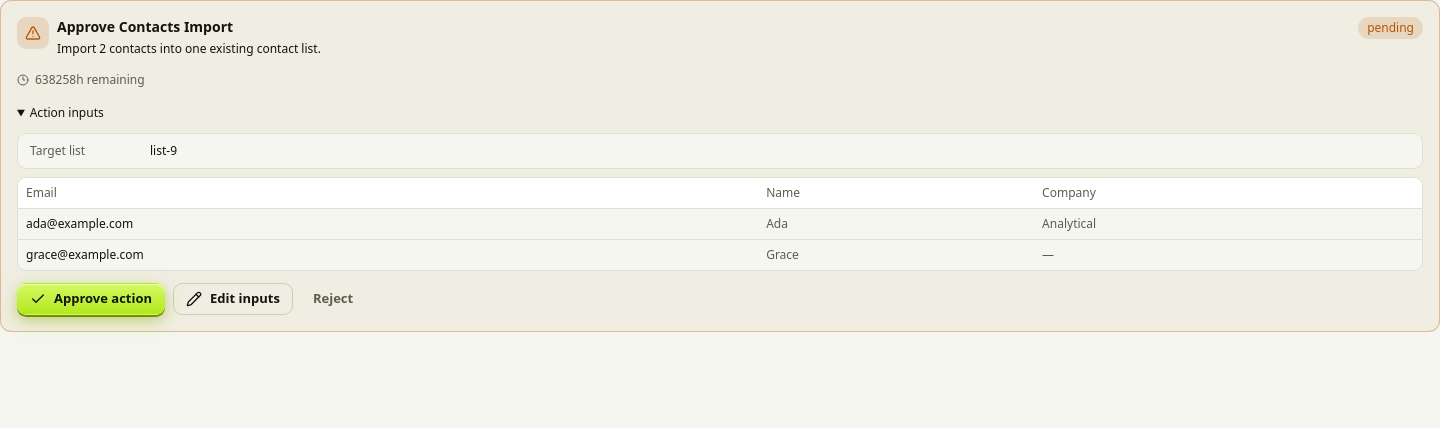
Scenario: ApprovalCard › renders a bulk import as rows and diffs a removed row
Expected: the text "Import 2 contacts into one existing contact list." is shown, x1=57 y1=40 x2=321 y2=57
Expected: the text "ada@example.com" is shown, x1=18 y1=208 x2=758 y2=240
Click the button "Edit inputs" at (233, 299), box x1=173 y1=283 x2=293 y2=315
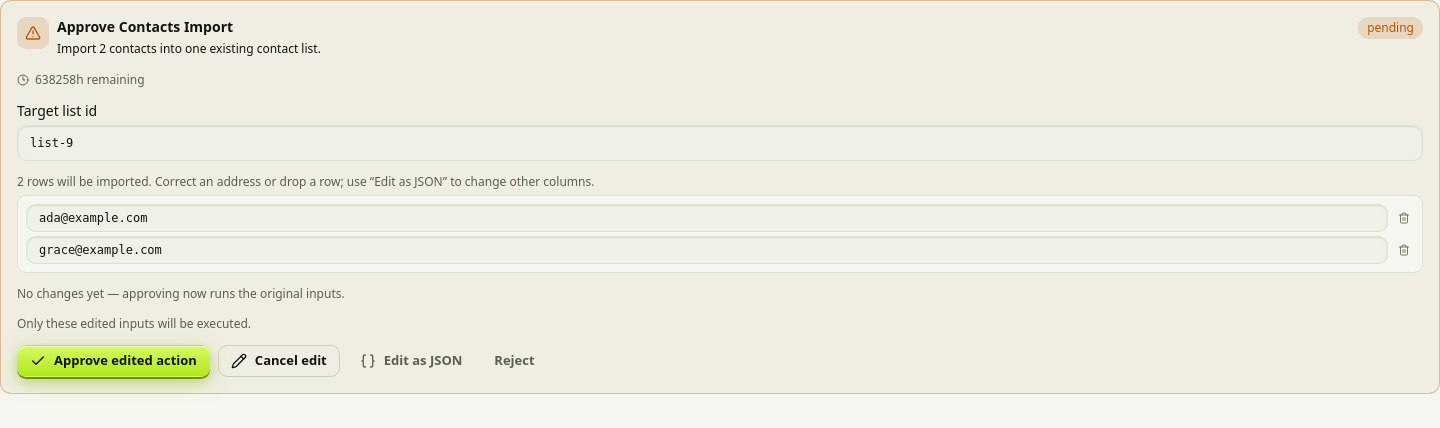
Click the button named "Remove row 1" at (1404, 218), box x1=1394 y1=208 x2=1414 y2=228
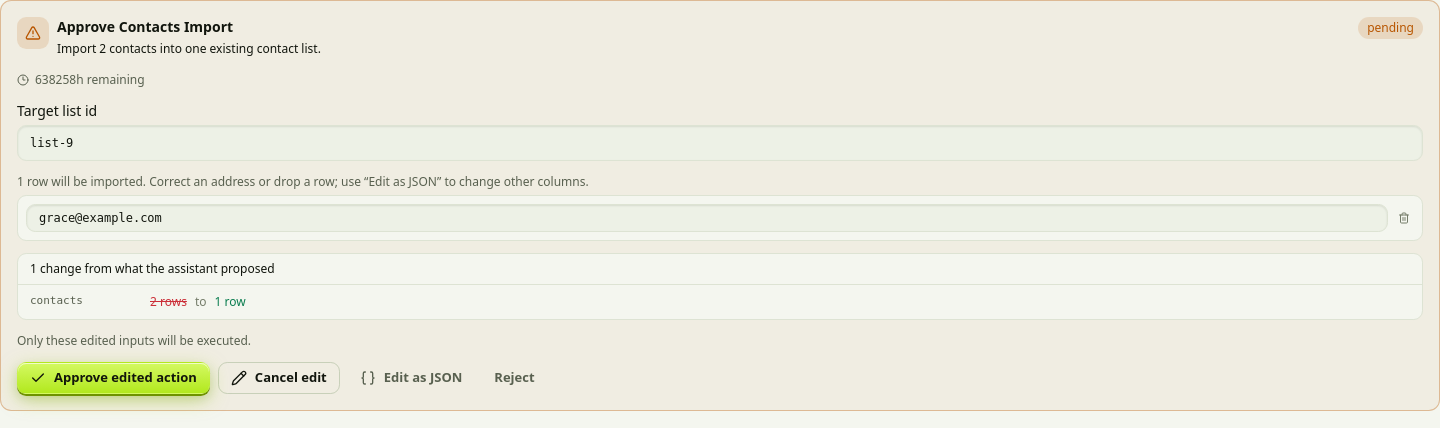
Expected: the text "2 rows" is shown, x1=150 y1=293 x2=187 y2=311
Expected: the text "1 change from what the assistant proposed" is shown, x1=18 y1=254 x2=1422 y2=285
Expected: the text "1 row" is shown, x1=214 y1=293 x2=246 y2=311
